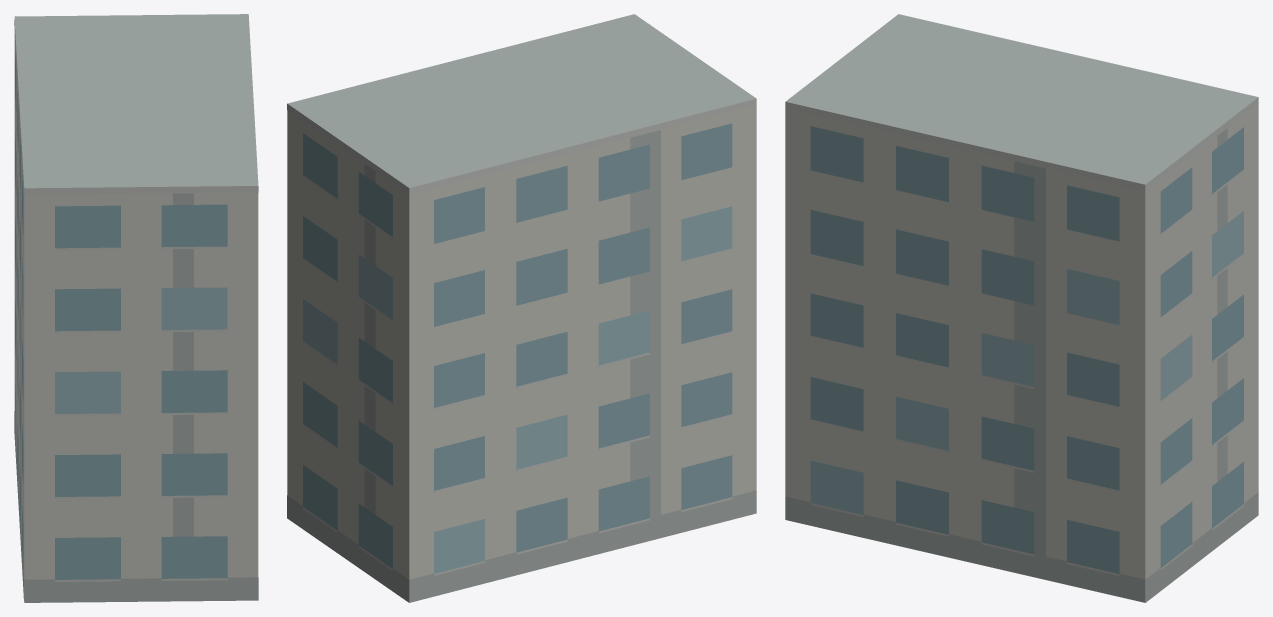
The model's file is residential-fd98e683-dcb2-4ed5-b3d3-4603a2afea7a.glb.
3 renders of one model, left to right at view 1: azimuth 30°, elevation 25°; view 2: azimuth 150°, elevation 25°; view 3: azimuth 270°, elevation 25°, orthographic.
Parts seen in each view (by area): view 1: residential-fd98e683-dcb2-4ed5-b3d3-4603a2afea7a.tmp; view 2: residential-fd98e683-dcb2-4ed5-b3d3-4603a2afea7a.tmp; view 3: residential-fd98e683-dcb2-4ed5-b3d3-4603a2afea7a.tmp.
Boxes of the visible parts, x1,y1,x2,y2 form: residential-fd98e683-dcb2-4ed5-b3d3-4603a2afea7a.tmp: (14,14,258,602); residential-fd98e683-dcb2-4ed5-b3d3-4603a2afea7a.tmp: (287,14,756,602); residential-fd98e683-dcb2-4ed5-b3d3-4603a2afea7a.tmp: (785,14,1258,602).
Size of the model in its own units: 13.36 by 15.25 by 15.65.
